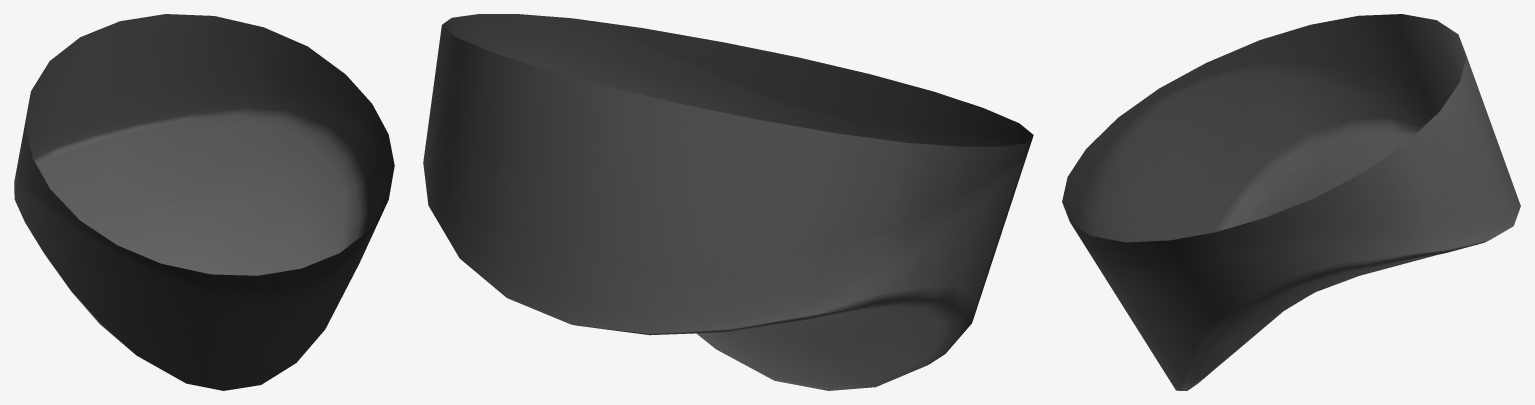
The model's file is R_trigger.obj.
3 views of the same model, side by side, from view 1: azimuth 30°, elevation 25°; view 2: azimuth 150°, elevation 25°; view 3: azimuth 270°, elevation 25° (orthographic). The views are drawn at different scales.
Visible parts, largest first — view 1: R_trigger; view 2: R_trigger; view 3: R_trigger.
Boxes of the visible parts, x1,y1,x2,y2 form: R_trigger: (14, 14, 394, 390); R_trigger: (423, 14, 1033, 390); R_trigger: (1062, 14, 1520, 390).
Bounding box in the file's own units: 0.0267 × 0.0217 × 0.0282.
1 material, 1 textured.
